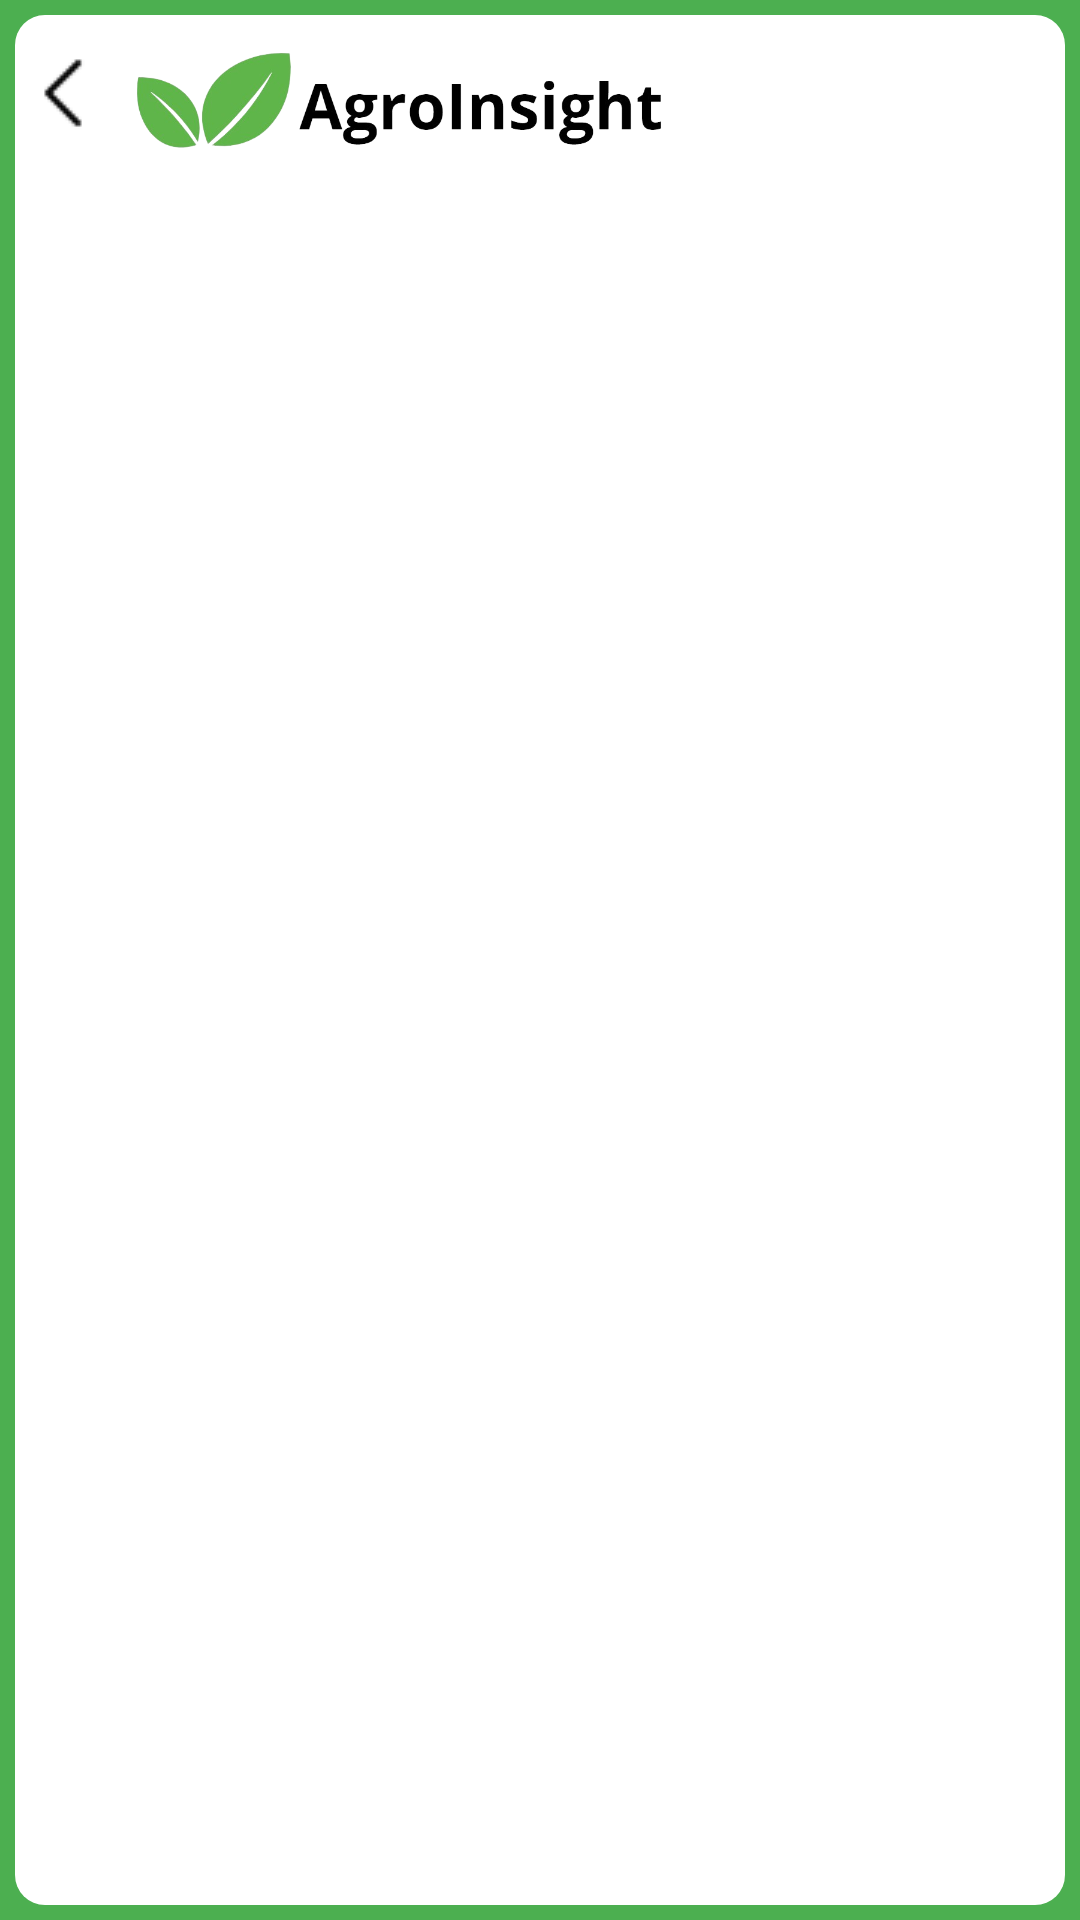

Screen size 1080px×1920px. Icon name, then its center in pixels as [x,y]:
arrow back: [63,93]
